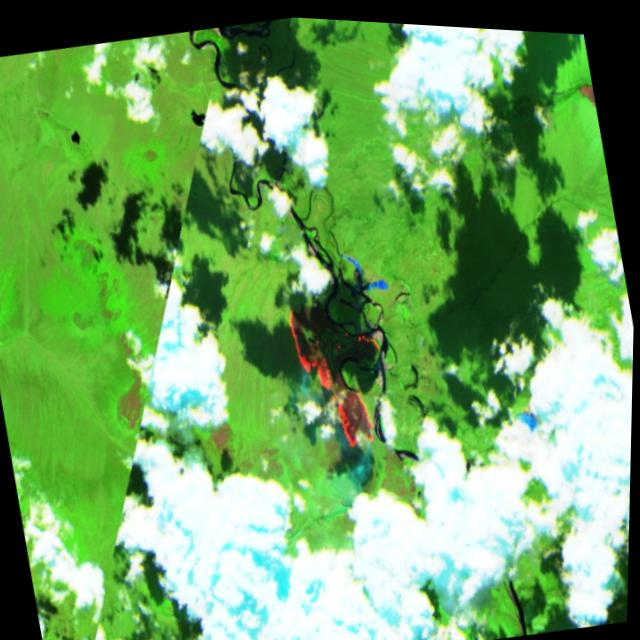fire: (281, 284, 402, 456)
